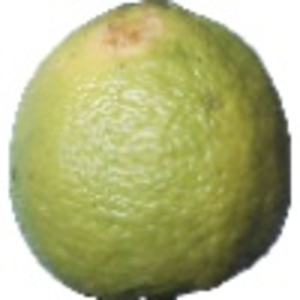limão: (9, 1, 291, 300)
